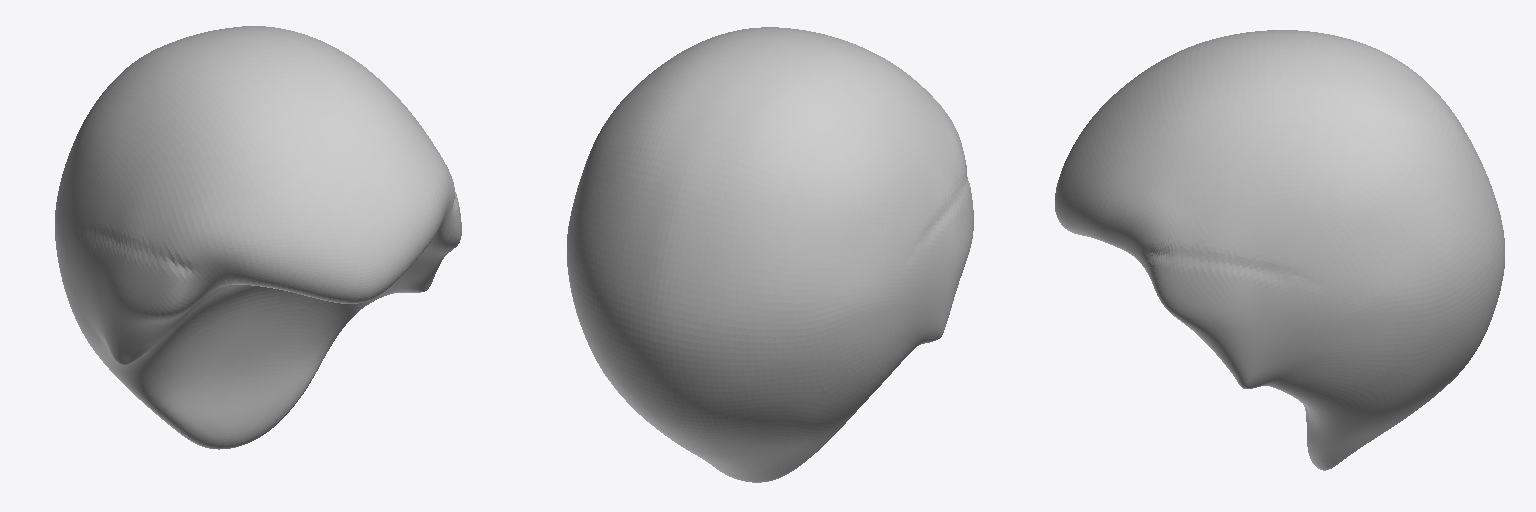
The model's file is Hawthroine HairCapForRetopo.OBJ.
3 renders of one model, left to right at view 1: azimuth 30°, elevation 25°; view 2: azimuth 150°, elevation 25°; view 3: azimuth 270°, elevation 25°, orthographic.
Visible parts, largest first — view 1: Group33255; view 2: Group33255; view 3: Group33255.
Boxes of the visible parts, x1=… form: Group33255: x1=55, y1=26, x2=461, y2=449; Group33255: x1=567, y1=27, x2=973, y2=482; Group33255: x1=1055, y1=30, x2=1504, y2=470.
Size of the model in its own units: 21.7 by 25.87 by 25.48.